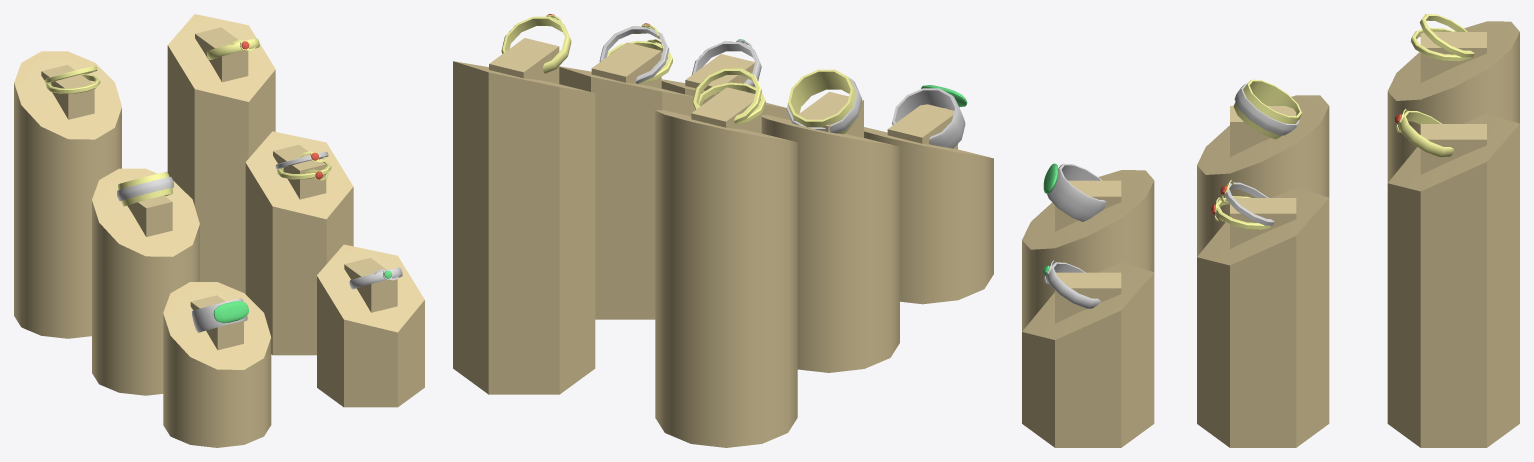
Rendered from Rings_1.fbx.
3 renders of one model, left to right at view 1: azimuth 30°, elevation 25°; view 2: azimuth 150°, elevation 25°; view 3: azimuth 270°, elevation 25°, orthographic. The views are drawn at different scales.
Visible parts, largest first — view 1: SM_Ring_Stand_4_1, SM_Ring_Stand_6_1, SM_Ring_Stand_2_1, SM_Ring_Stand_5_1, SM_Ring_Stand_3_1, SM_Ring_Stand_7_1, SM_Ring_5, SM_Ring_9, SM_Ring_8, SM_Ring_3, SM_Ring_16, SM_Ring_7; view 2: SM_Ring_Stand_4_1, SM_Ring_Stand_6_1, SM_Ring_Stand_2_1, SM_Ring_Stand_5_1, SM_Ring_Stand_3_1, SM_Ring_5, SM_Ring_9, SM_Ring_Stand_7_1, SM_Ring_3, SM_Ring_8, SM_Ring_7, SM_Ring_16; view 3: SM_Ring_Stand_6_1, SM_Ring_Stand_5_1, SM_Ring_Stand_7_1, SM_Ring_Stand_4_1, SM_Ring_Stand_3_1, SM_Ring_Stand_2_1, SM_Ring_5, SM_Ring_9, SM_Ring_8, SM_Ring_3, SM_Ring_7, SM_Ring_16.
Boxes of the visible parts, x1=… form: SM_Ring_Stand_4_1: x1=14, y1=51, x2=121, y2=338; SM_Ring_Stand_6_1: x1=167, y1=14, x2=275, y2=293; SM_Ring_Stand_2_1: x1=92, y1=168, x2=199, y2=395; SM_Ring_Stand_5_1: x1=245, y1=131, x2=353, y2=355; SM_Ring_Stand_3_1: x1=163, y1=282, x2=271, y2=447; SM_Ring_Stand_7_1: x1=317, y1=244, x2=424, y2=407; SM_Ring_5: x1=117, y1=171, x2=173, y2=206; SM_Ring_9: x1=192, y1=298, x2=248, y2=332; SM_Ring_8: x1=275, y1=151, x2=331, y2=180; SM_Ring_3: x1=44, y1=66, x2=100, y2=93; SM_Ring_16: x1=349, y1=267, x2=402, y2=289; SM_Ring_7: x1=206, y1=38, x2=259, y2=59; SM_Ring_Stand_4_1: x1=655, y1=87, x2=797, y2=447; SM_Ring_Stand_6_1: x1=453, y1=38, x2=595, y2=394; SM_Ring_Stand_2_1: x1=761, y1=92, x2=899, y2=372; SM_Ring_Stand_5_1: x1=559, y1=42, x2=695, y2=319; SM_Ring_Stand_3_1: x1=864, y1=104, x2=993, y2=304; SM_Ring_5: x1=786, y1=69, x2=861, y2=134; SM_Ring_9: x1=892, y1=85, x2=967, y2=148; SM_Ring_Stand_7_1: x1=661, y1=54, x2=790, y2=120; SM_Ring_3: x1=692, y1=68, x2=765, y2=124; SM_Ring_8: x1=599, y1=23, x2=672, y2=84; SM_Ring_7: x1=501, y1=14, x2=571, y2=73; SM_Ring_16: x1=692, y1=39, x2=761, y2=92; SM_Ring_Stand_6_1: x1=1387, y1=113, x2=1519, y2=447; SM_Ring_Stand_5_1: x1=1197, y1=187, x2=1329, y2=447; SM_Ring_Stand_7_1: x1=1022, y1=262, x2=1154, y2=447; SM_Ring_Stand_4_1: x1=1387, y1=21, x2=1519, y2=182; SM_Ring_Stand_3_1: x1=1022, y1=170, x2=1154, y2=331; SM_Ring_Stand_2_1: x1=1197, y1=95, x2=1329, y2=256; SM_Ring_5: x1=1233, y1=79, x2=1301, y2=139; SM_Ring_9: x1=1043, y1=163, x2=1106, y2=221; SM_Ring_8: x1=1210, y1=180, x2=1274, y2=229; SM_Ring_3: x1=1410, y1=14, x2=1474, y2=61; SM_Ring_7: x1=1395, y1=109, x2=1453, y2=157; SM_Ring_16: x1=1043, y1=260, x2=1100, y2=308.
Bounding box in the file's own units: 10.3 × 10.46 × 15.04.
